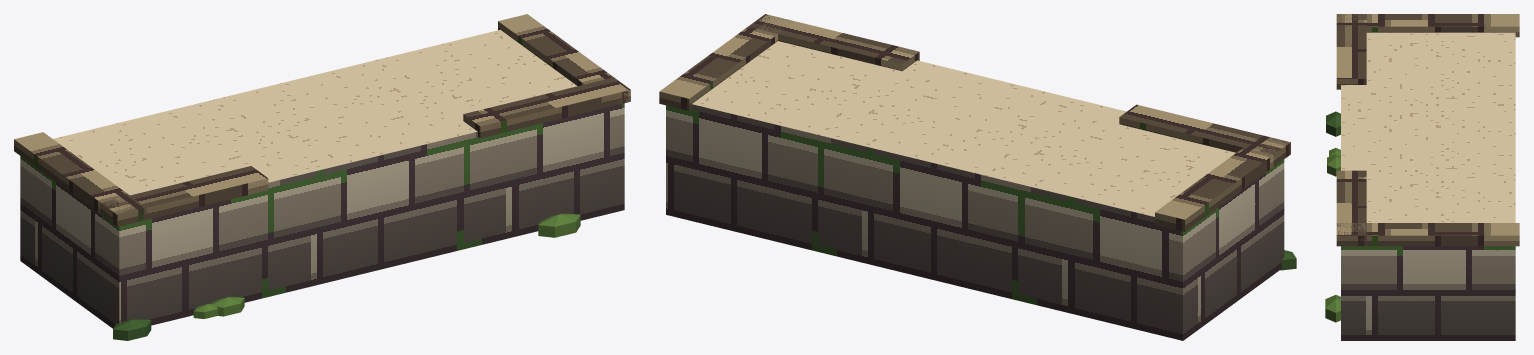
File: scene_plat_o3.glb
The picture shows the model from 3 angles, left to right: view 1: azimuth 30°, elevation 25°; view 2: azimuth 150°, elevation 25°; view 3: azimuth 270°, elevation 25°; orthographic projection. The views are drawn at different scales.
Parts seen in each view (by area): view 1: scene_plat_o3; view 2: scene_plat_o3; view 3: scene_plat_o3.
Part boxes in pixels (left/top/right/bottom): scene_plat_o3: left=14, top=14, right=630, bottom=340; scene_plat_o3: left=659, top=14, right=1296, bottom=340; scene_plat_o3: left=1325, top=14, right=1519, bottom=340.
Size of the model in its own units: 6.36 by 1.51 by 2.34.
Materials: 3 (2 with a texture image).
